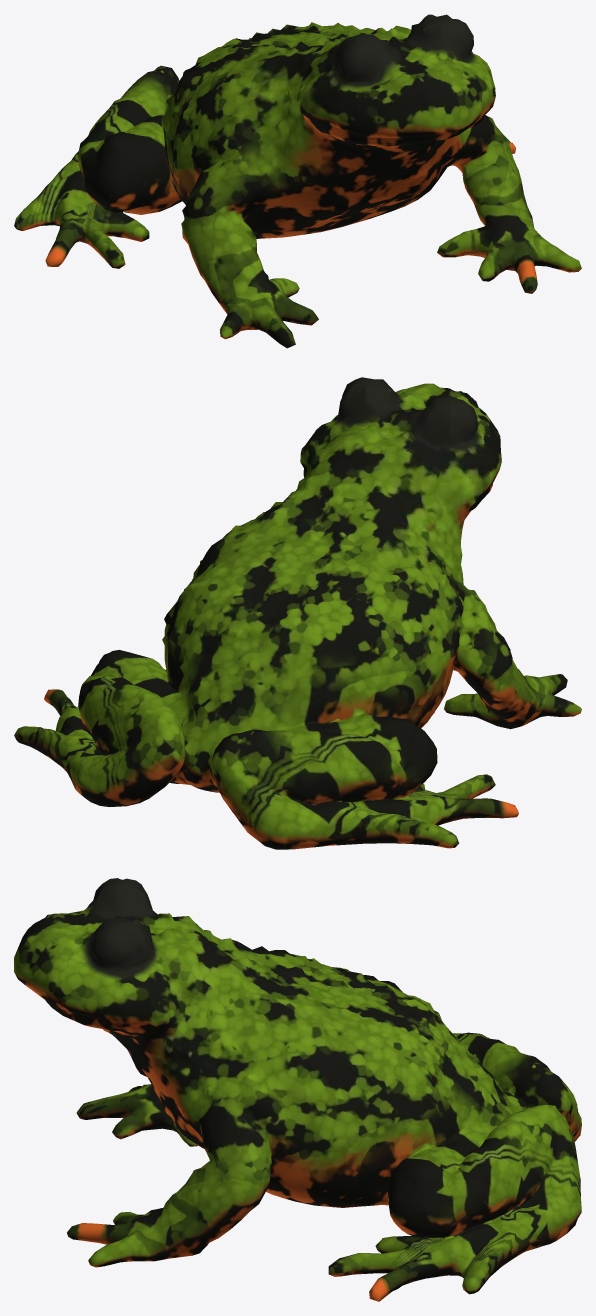
The model's file is toad.glb.
3 views of the same model, one above another, from view 1: azimuth 30°, elevation 25°; view 2: azimuth 150°, elevation 25°; view 3: azimuth 270°, elevation 25° (orthographic). The views are drawn at different scales.
Visible parts, largest first — view 1: toad; view 2: toad; view 3: toad.
Boxes of the visible parts, bbox=[...] form: toad: bbox=[14, 14, 581, 348]; toad: bbox=[14, 377, 581, 849]; toad: bbox=[14, 878, 581, 1301].
Bounding box in the file's own units: 0.0484 × 0.0273 × 0.049.
Materials: 1 (1 with a texture image).
